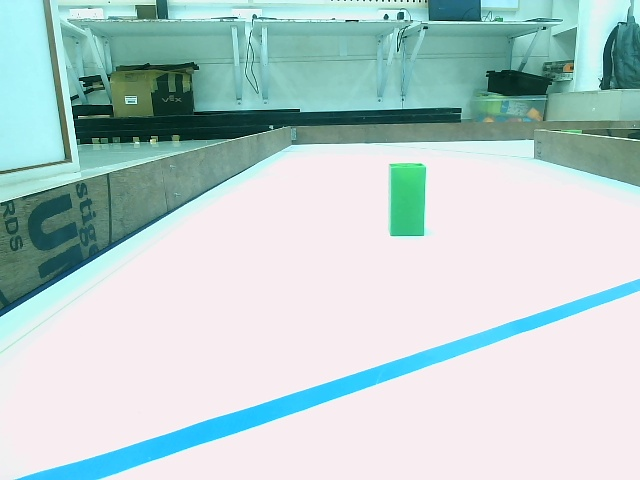green: (388, 164, 424, 235)
